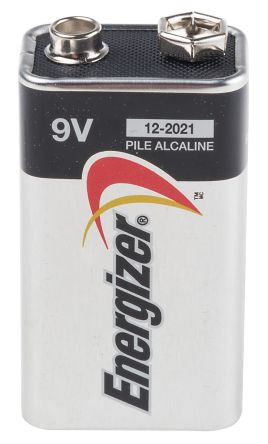9V: (16, 11, 250, 436)
